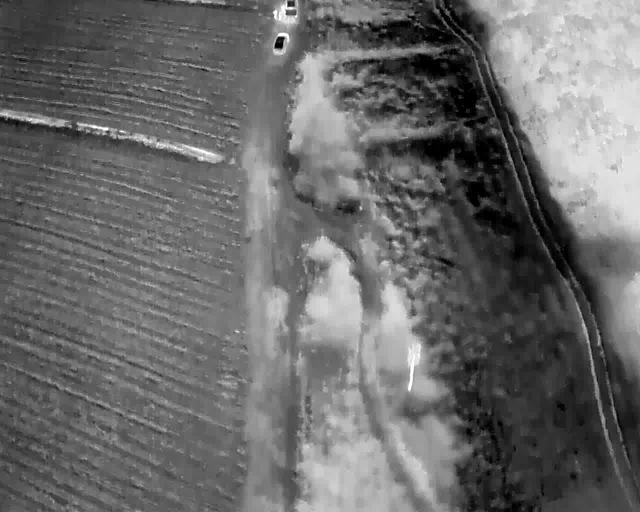car: (272, 31, 288, 55), (285, 0, 298, 18)
person: (279, 2, 286, 15), (271, 8, 278, 20), (276, 10, 283, 22)
